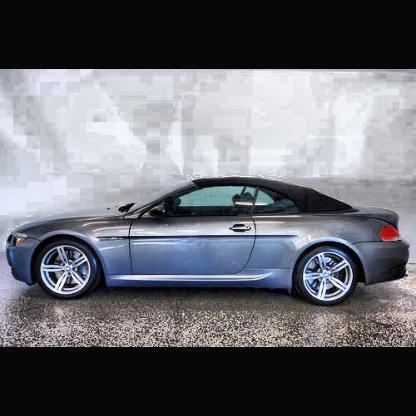BMW 6 Series Convertible 2007: (7, 176, 413, 307)
